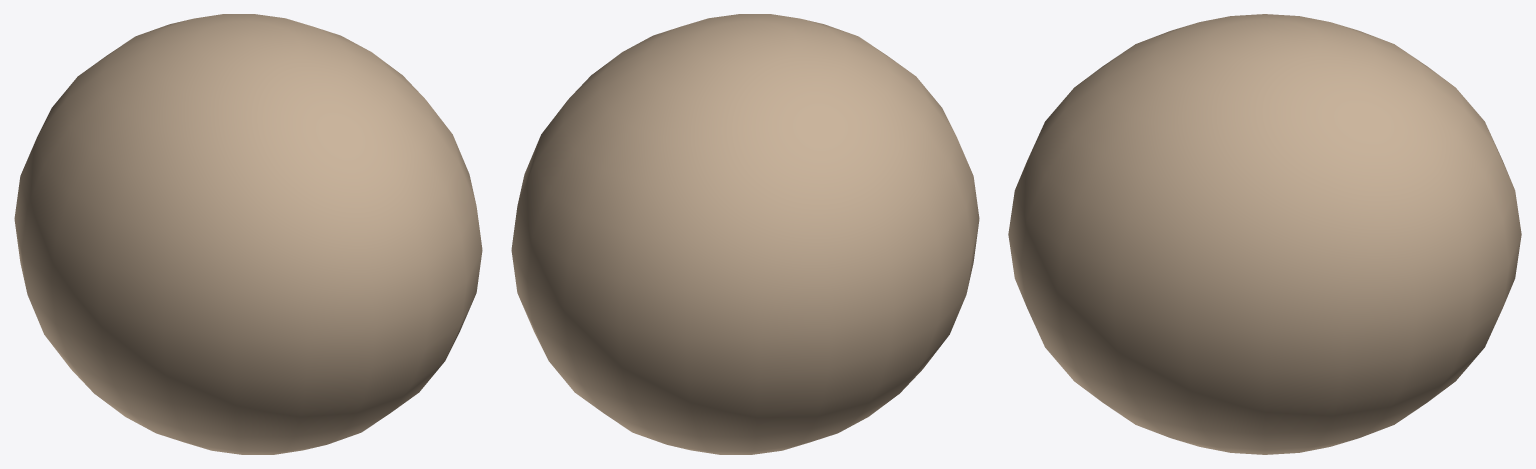
File: cr_body_c.fbx
The picture shows the model from 3 angles, left to right: view 1: azimuth 30°, elevation 25°; view 2: azimuth 150°, elevation 25°; view 3: azimuth 270°, elevation 25°; orthographic projection.
Parts seen in each view (by area): view 1: Body; view 2: Body; view 3: Body.
Part boxes in pixels (bbox=[...]): Body: bbox=[14, 14, 482, 454]; Body: bbox=[511, 14, 979, 454]; Body: bbox=[1008, 14, 1521, 454].
Size of the model in its own units: 0.9 by 0.85 by 1.
